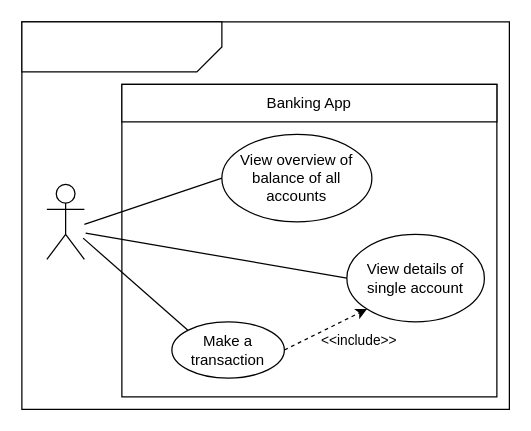
Some shapes in this 531 by 431 pixel diagram are drawn without their labels. Here are the shapes that lost their labels. From the top down, the centre of each, then its label:
At pixel 121 46: "Banking App Use Cases".
At pixel 65 221: "User".
